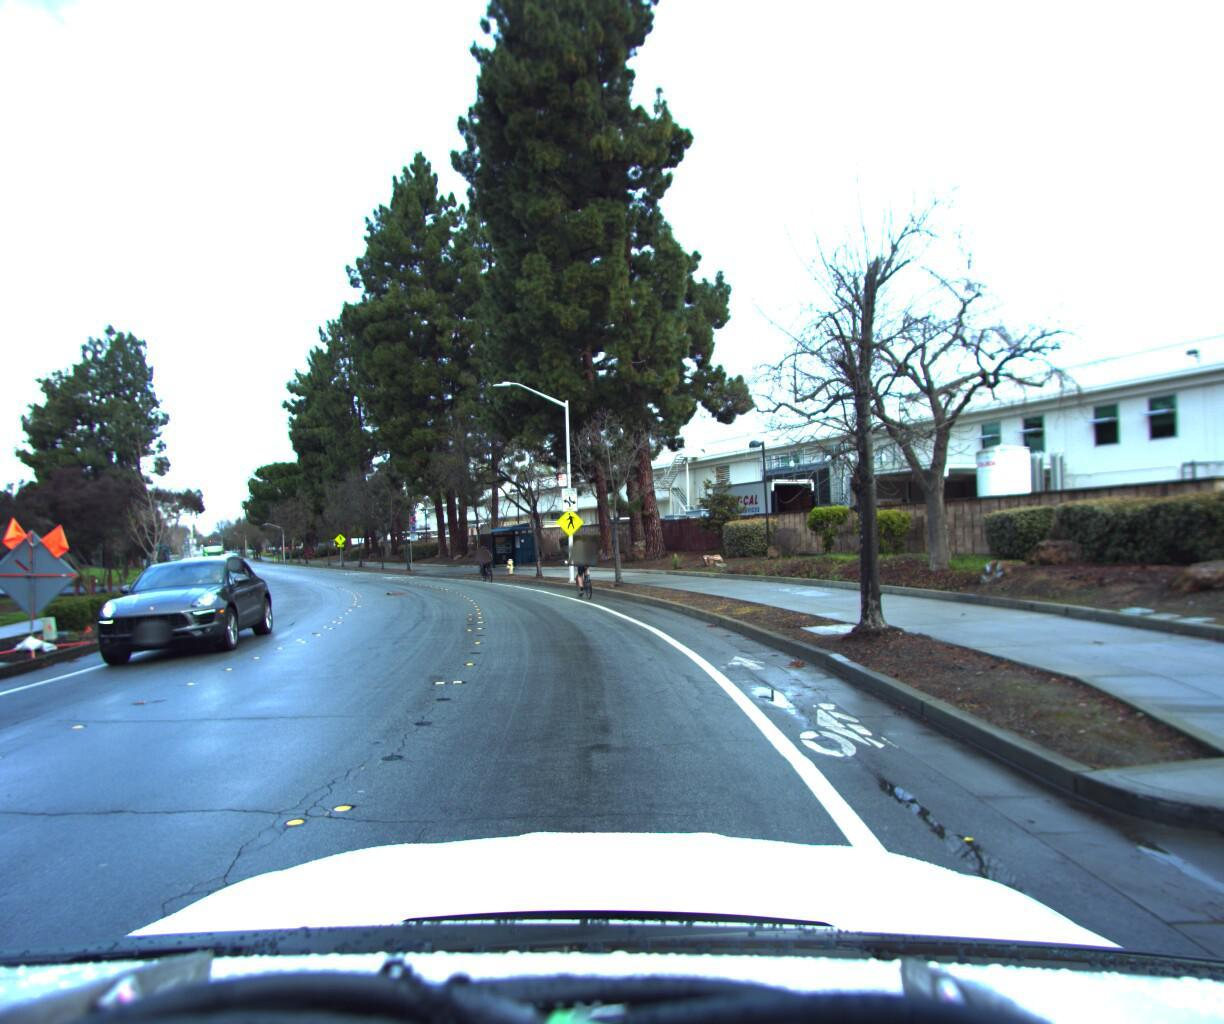bicycle: (557, 539, 605, 606), (473, 542, 500, 582)
car: (76, 549, 285, 665)
truck: (697, 476, 824, 550)
